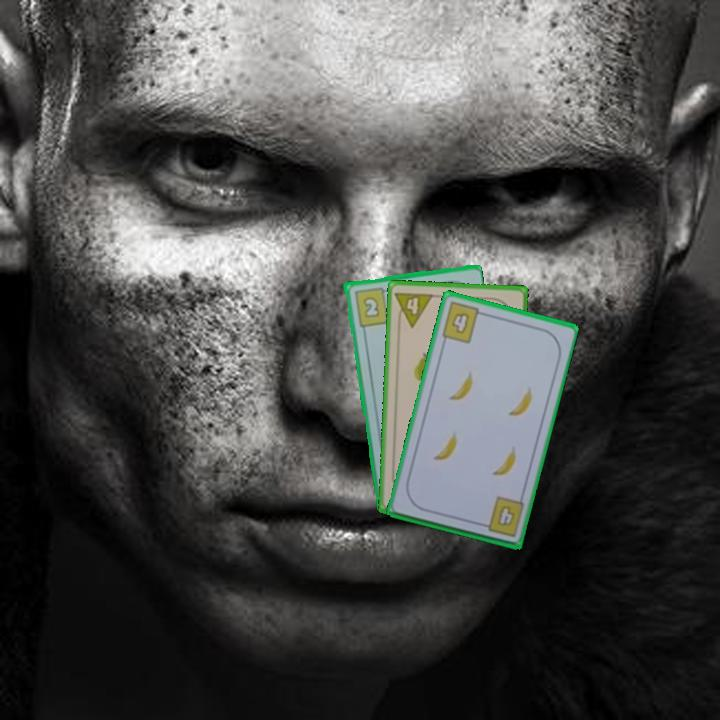2b: (351, 283, 393, 329)
4b: (438, 298, 488, 346), (476, 493, 527, 540)
4p: (392, 288, 436, 330)
